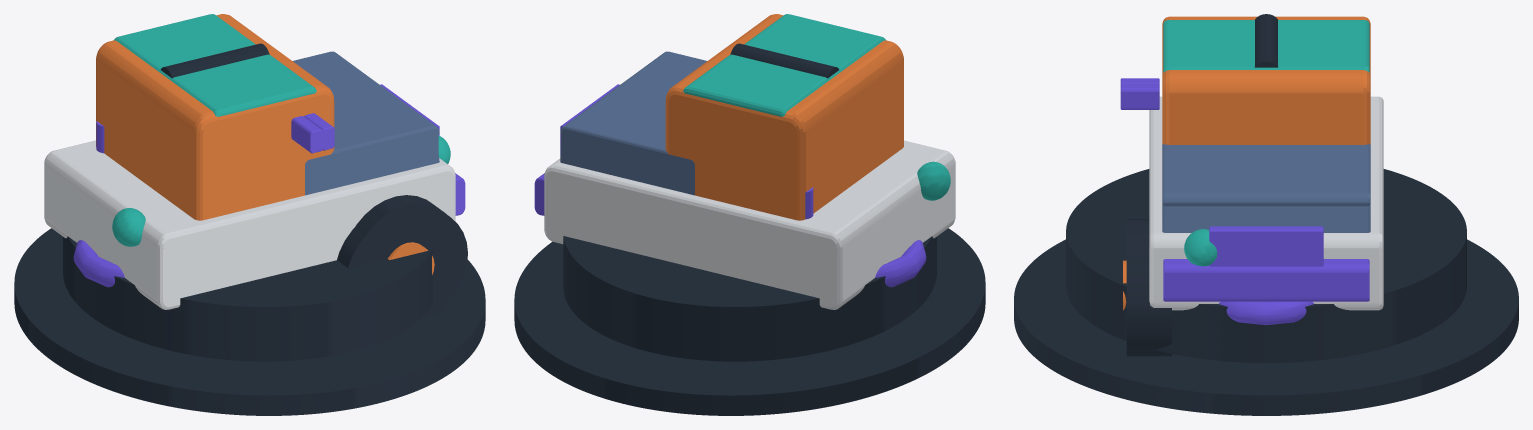
Rendered from 1118_左传_晋下军战车.glb.
The picture shows the model from 3 angles, left to right: view 1: azimuth 30°, elevation 25°; view 2: azimuth 150°, elevation 25°; view 3: azimuth 270°, elevation 25°; orthographic projection.
Visible parts, largest first — view 1: card_1118; view 2: card_1118; view 3: card_1118.
Part boxes in pixels (x1,y1,x2,y2): card_1118: [14, 14, 485, 415]; card_1118: [514, 14, 985, 415]; card_1118: [1014, 14, 1518, 415].
Size of the model in its own units: 1.58 by 1 by 1.73.
